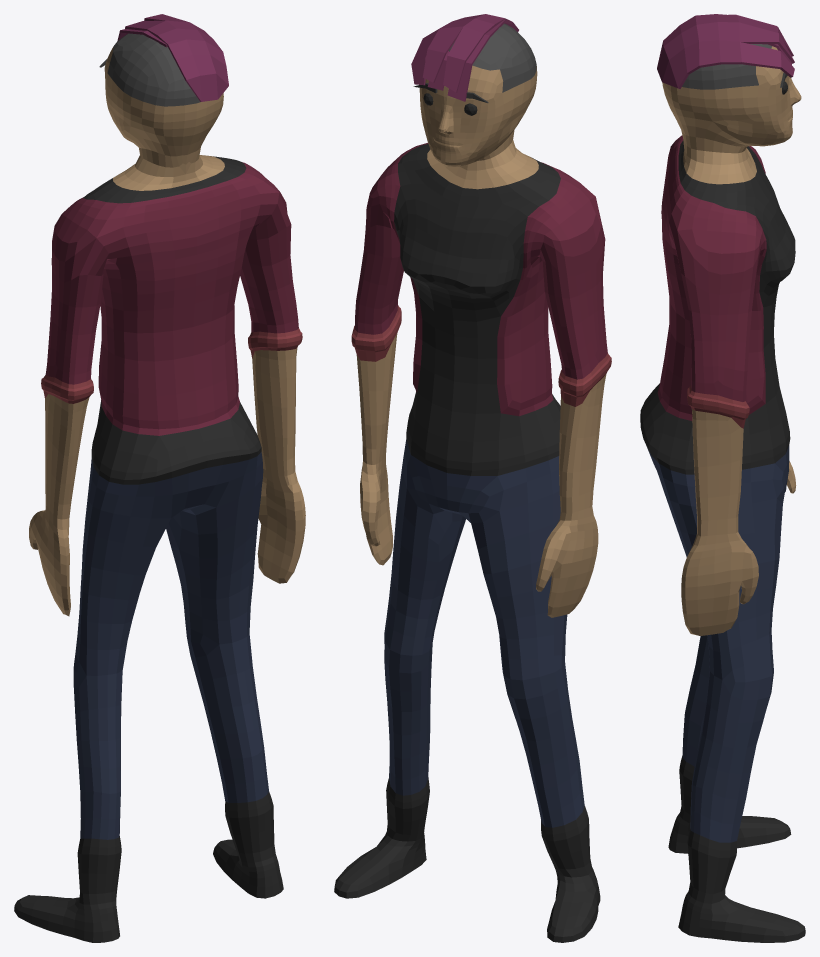
Rendered from Smooth_Female_Alternative.glb.
3 renders of one model, left to right at view 1: azimuth 30°, elevation 25°; view 2: azimuth 150°, elevation 25°; view 3: azimuth 270°, elevation 25°, orthographic.
Parts seen in each view (by area): view 1: Smooth_Female_Alternative; view 2: Smooth_Female_Alternative; view 3: Smooth_Female_Alternative.
Boxes of the visible parts, x1,y1,x2,y2 form: Smooth_Female_Alternative: (14, 14, 305, 942); Smooth_Female_Alternative: (334, 14, 611, 942); Smooth_Female_Alternative: (640, 14, 805, 942).
Size of the model in its own units: 1.38 by 4.62 by 0.7967.
